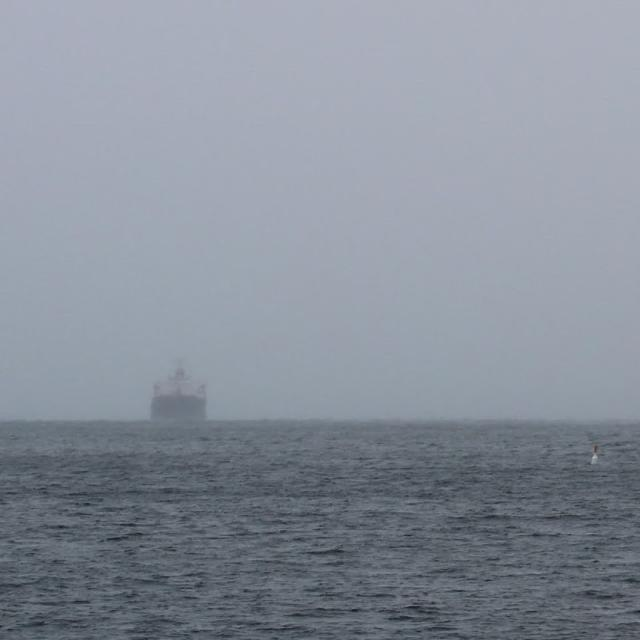cargoship: (147, 358, 215, 421)
